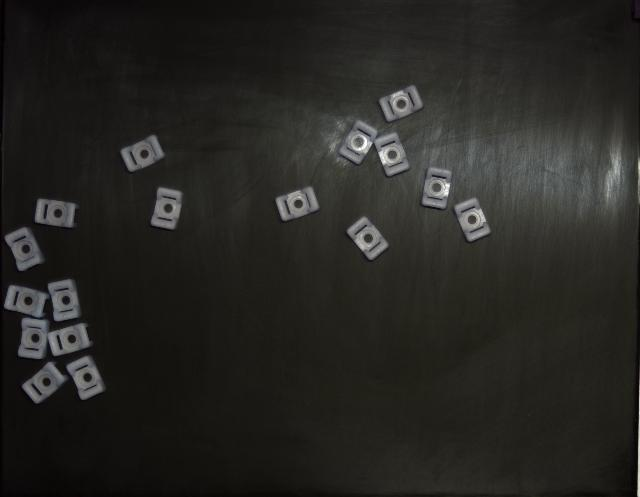first_side: (22, 362, 69, 404), (346, 216, 389, 261), (66, 356, 106, 400), (339, 120, 378, 165), (5, 228, 45, 271), (379, 85, 424, 122), (121, 135, 165, 172), (4, 285, 51, 319), (374, 132, 410, 176), (454, 198, 490, 242), (275, 188, 320, 221), (48, 324, 92, 356), (48, 280, 81, 321), (18, 318, 50, 360), (35, 199, 79, 229), (151, 188, 182, 230), (421, 168, 452, 210)
